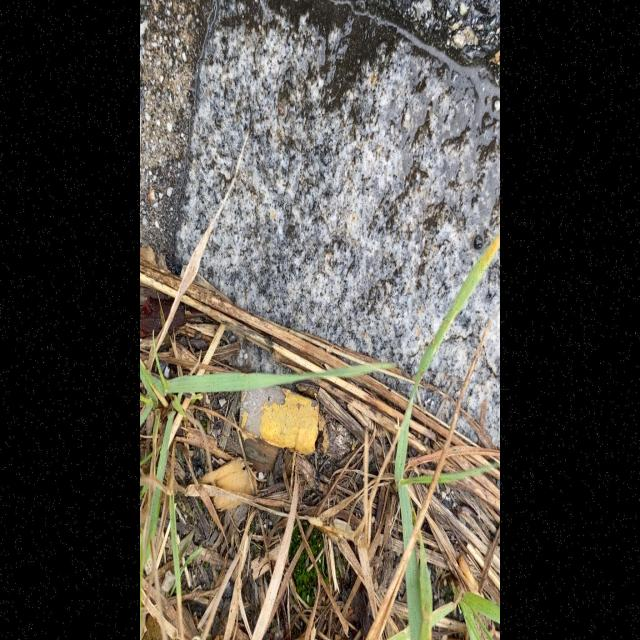other waste: (239, 380, 320, 456)
